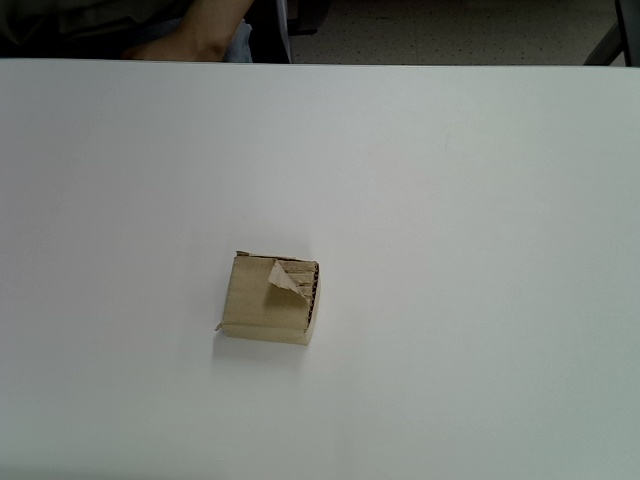defect: (213, 251, 321, 347)
